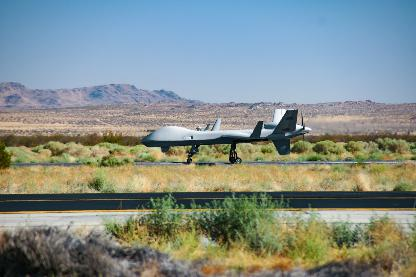MQ9: (136, 108, 312, 163)
